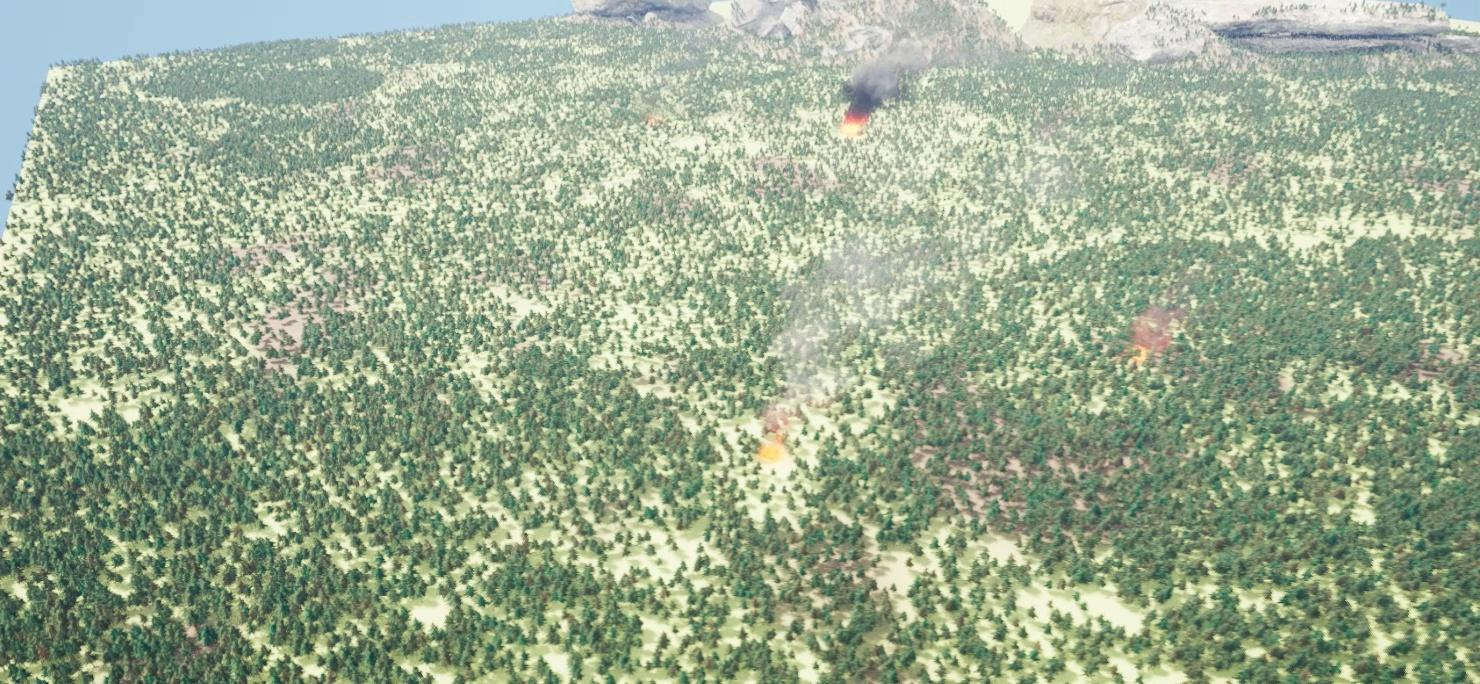fire: (756, 439, 789, 459), (1125, 342, 1159, 360), (840, 113, 871, 132)
smoke: (757, 238, 927, 427), (842, 45, 950, 113), (1131, 306, 1177, 345)
